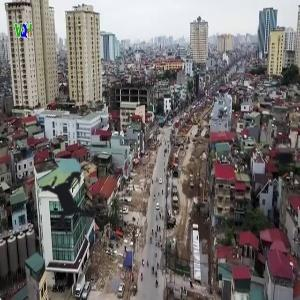drone: (11, 137, 135, 261)
